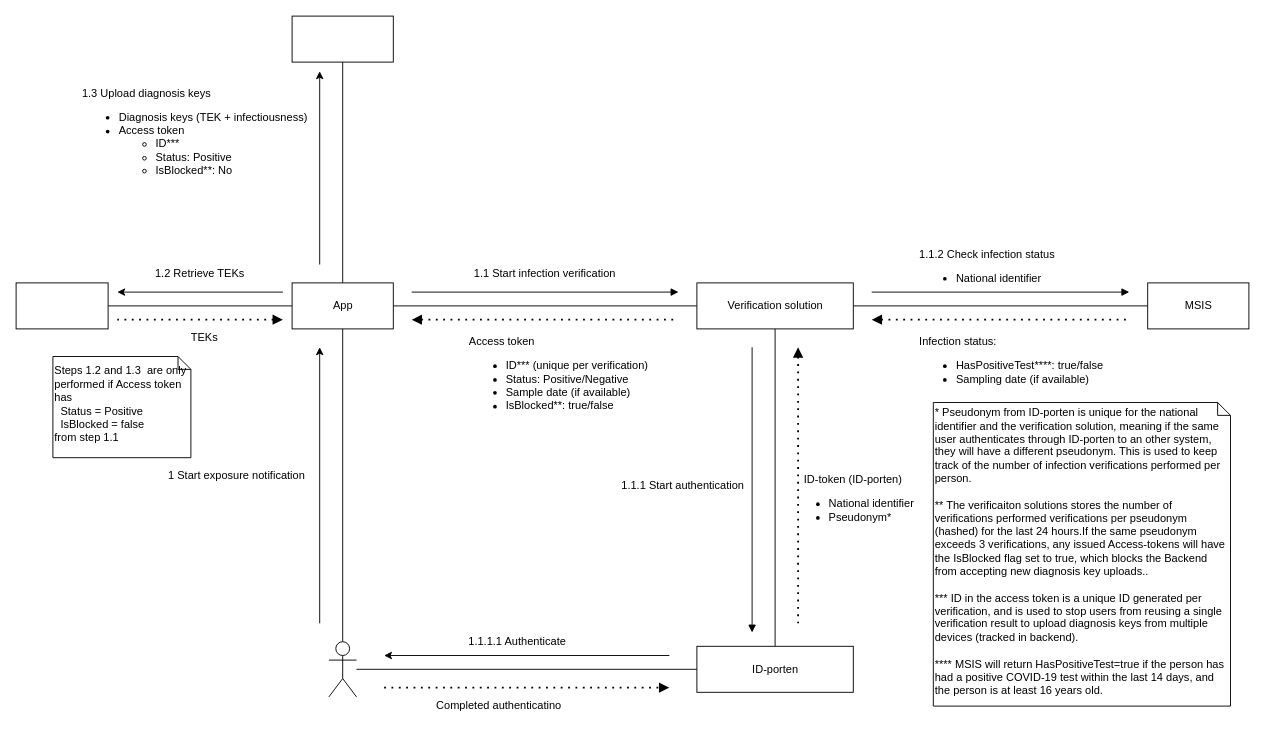
The diagram is 1265 pixels wide and 732 high, and some of its shapes have lost their labels. Here are the shapes that lost their labels. From the top down, the centre of each, then its label:
At point 342,38: "Backend".
At point 61,305: "GAEN".
At point 342,669: "Infected user".
